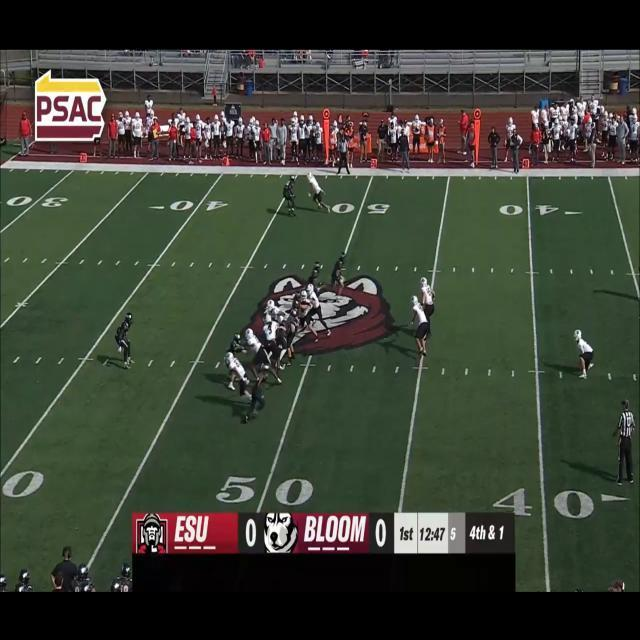football: (430, 284, 438, 307)
